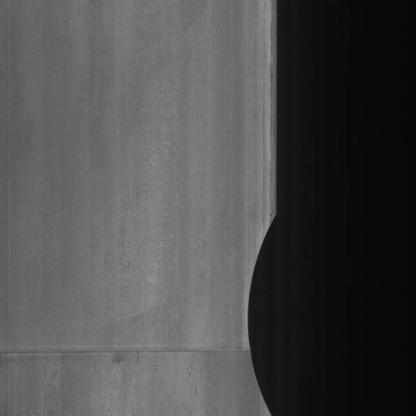welding_line: (0, 339, 260, 373)
